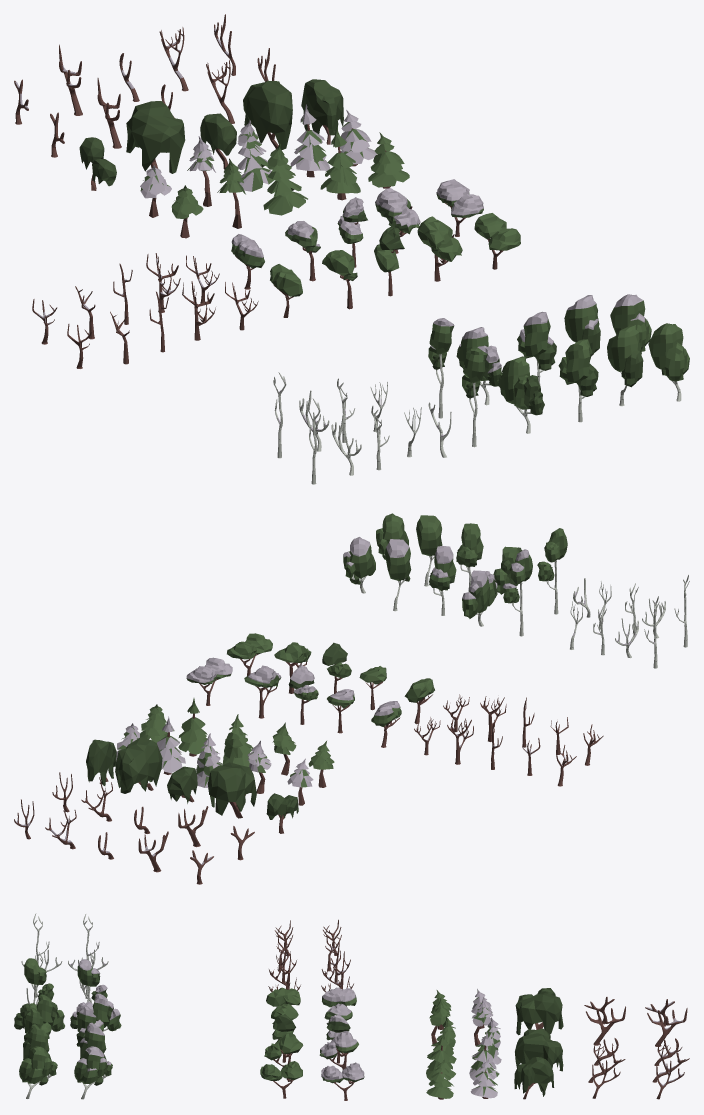
File: trees.glb
3 views of the same model, one above another, from view 1: azimuth 30°, elevation 25°; view 2: azimuth 150°, elevation 25°; view 3: azimuth 270°, elevation 25° (orthographic). The views are drawn at different scales.
Visible parts, largest first — view 1: Willow_4, Willow_2, BirchTree_4, Willow_1, BirchTree_1, BirchTree_2, PineTree_3, BirchTree_3, BirchTree_Snow_3, PineTree_Snow_3, BirchTree_Snow_2, CommonTree_2 (+23 smaller); view 2: Willow_2, Willow_4, BirchTree_Snow_4, BirchTree_Snow_1, BirchTree_Snow_5, Willow_1, BirchTree_5, BirchTree_Snow_2, BirchTree_Snow_3, BirchTree_3, BirchTree_2, PineTree_3 (+18 smaller); view 3: Willow_4, Willow_2, BirchTree_Snow_1, BirchTree_1, Willow_1, BirchTree_4, BirchTree_Snow_4, CommonTree_Snow_2, CommonTree_Snow_1, CommonTree_1, CommonTree_2, BirchTree_5 (+22 smaller).
Part boxes in pixels (x1,y1,x2,y2): Willow_4: [126, 101, 185, 173]; Willow_2: [243, 80, 292, 150]; BirchTree_4: [498, 356, 544, 433]; Willow_1: [301, 79, 343, 144]; BirchTree_1: [648, 323, 689, 401]; BirchTree_2: [607, 324, 643, 406]; PineTree_3: [263, 143, 307, 215]; BirchTree_3: [558, 339, 598, 422]; BirchTree_Snow_3: [517, 311, 556, 386]; PineTree_Snow_3: [237, 120, 274, 191]; BirchTree_Snow_2: [564, 295, 600, 355]; CommonTree_2: [417, 216, 462, 281]; Willow_2: [115, 737, 162, 793]; Willow_4: [207, 762, 256, 818]; BirchTree_Snow_4: [462, 570, 497, 626]; BirchTree_Snow_1: [343, 537, 375, 593]; BirchTree_Snow_5: [503, 549, 532, 636]; Willow_1: [86, 739, 116, 785]; BirchTree_5: [537, 528, 567, 614]; BirchTree_Snow_2: [385, 539, 411, 611]; BirchTree_Snow_3: [429, 546, 456, 615]; BirchTree_3: [456, 523, 483, 591]; BirchTree_2: [416, 515, 442, 586]; PineTree_3: [223, 714, 253, 766]; Willow_4: [515, 994, 563, 1035]; Willow_2: [515, 1033, 563, 1071]; BirchTree_Snow_1: [74, 1046, 112, 1099]; BirchTree_1: [19, 1046, 57, 1098]; Willow_1: [514, 1057, 554, 1099]; BirchTree_4: [14, 994, 64, 1031]; BirchTree_Snow_4: [70, 993, 121, 1031]; CommonTree_Snow_2: [319, 1031, 358, 1069]; CommonTree_Snow_1: [321, 1062, 364, 1100]; CommonTree_1: [260, 1061, 302, 1098]; CommonTree_2: [264, 1033, 303, 1079]; BirchTree_5: [24, 958, 53, 1003].
Bounding box in the file's own units: 27.98 × 6.07 × 51.47.
